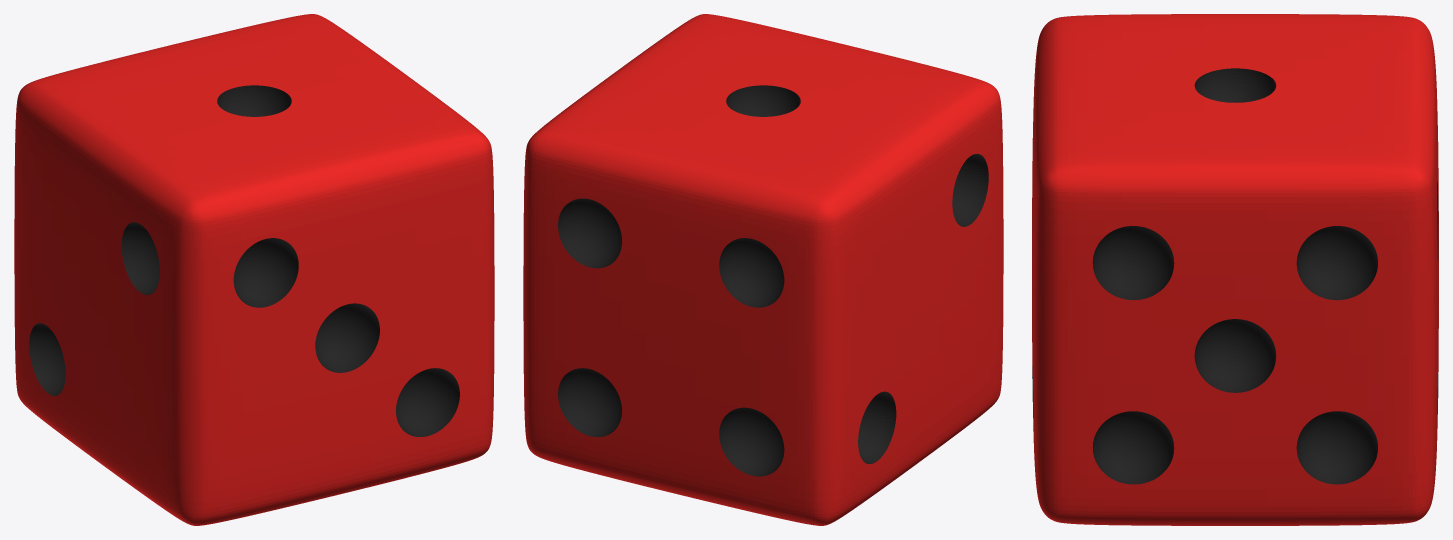
3 renders of one model, left to right at view 1: azimuth 30°, elevation 25°; view 2: azimuth 150°, elevation 25°; view 3: azimuth 270°, elevation 25°, orthographic. The views are drawn at different scales.
Visible parts, largest first — view 1: D6; view 2: D6; view 3: D6.
Part boxes in pixels (box(x1,y1,x2,y2)): D6: box(14, 14, 494, 525); D6: box(523, 14, 1003, 525); D6: box(1032, 14, 1438, 525).
Size of the model in its own units: 200 by 200 by 200.
